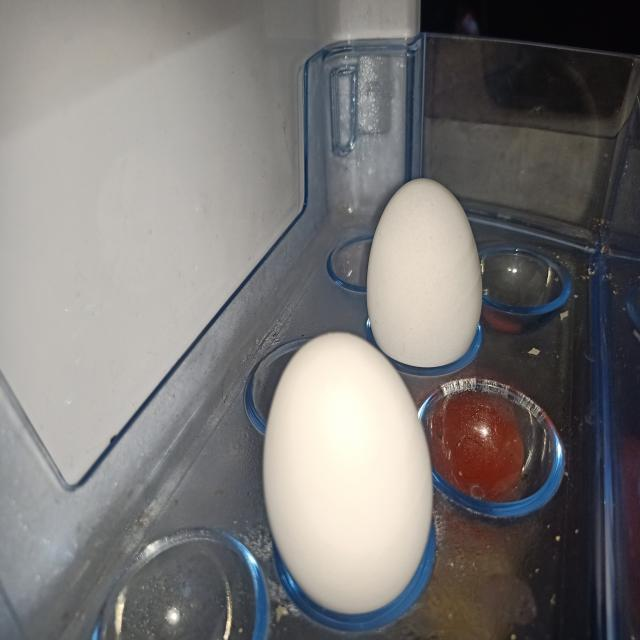Egg: (248, 314, 463, 640), (360, 160, 505, 390)
